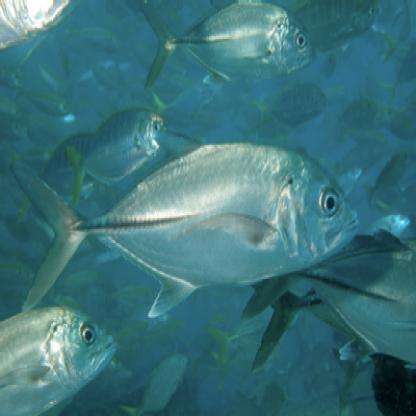Carangidae -Jacks-: (5, 130, 359, 319)
